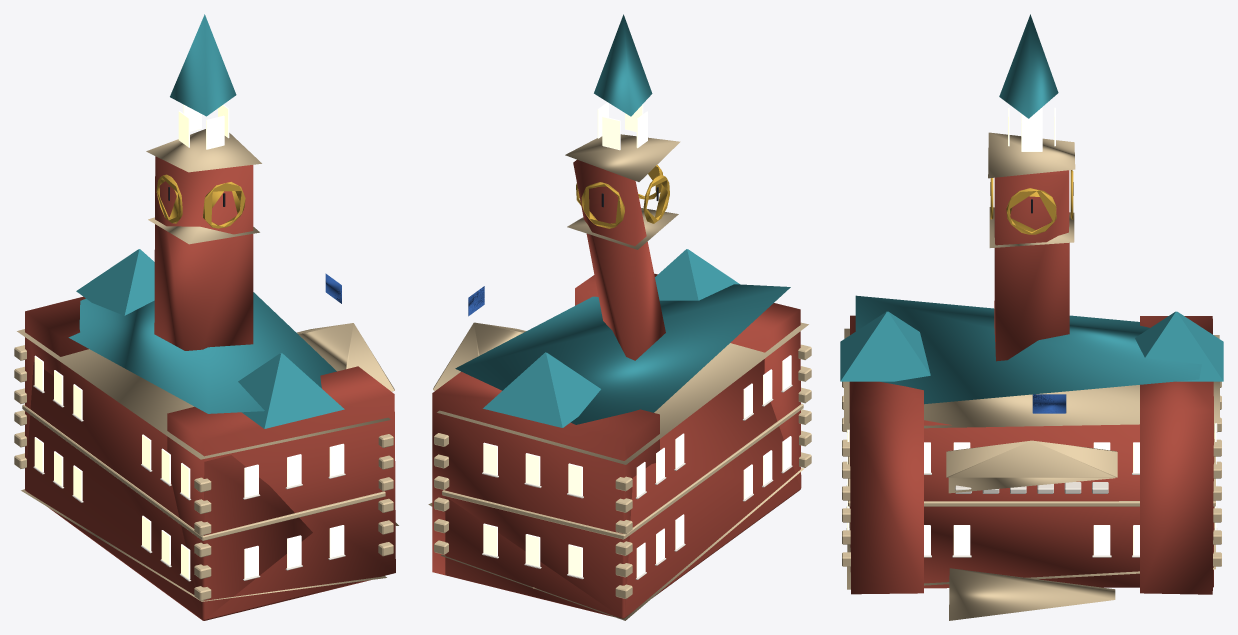
File: town_hall.glb
3 views of the same model, side by side, from view 1: azimuth 30°, elevation 25°; view 2: azimuth 150°, elevation 25°; view 3: azimuth 270°, elevation 25° (orthographic). The views are drawn at different scales.
Visible parts, largest first — view 1: town_hall; view 2: town_hall; view 3: town_hall.
Boxes of the visible parts, left/top/right/bottom form: town_hall: left=14, top=14, right=398, bottom=620; town_hall: left=428, top=14, right=811, bottom=620; town_hall: left=840, top=14, right=1223, bottom=620.
Bounding box in the file's own units: 19.48 × 38.5 × 25.22.
1 material, 1 textured.
